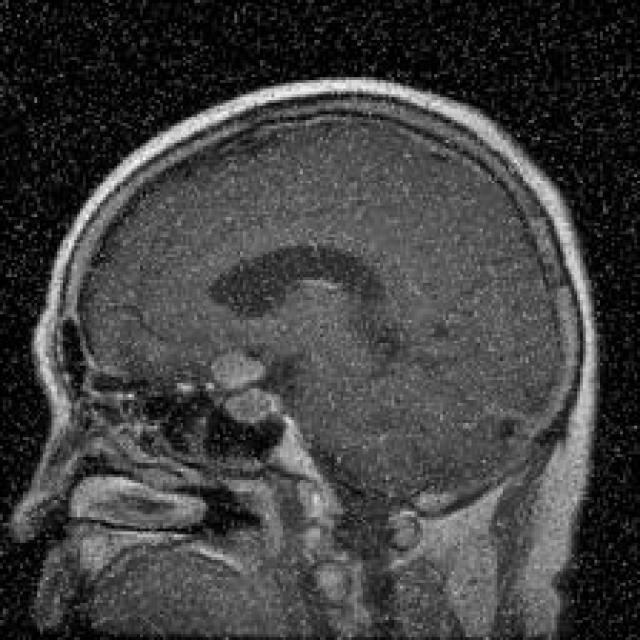pituitary_tumor: (192, 325, 310, 461)
